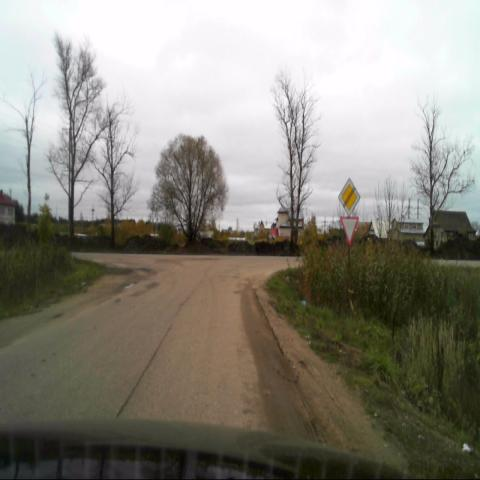2_2: (338, 176, 360, 216)
2_4: (340, 216, 359, 246)
